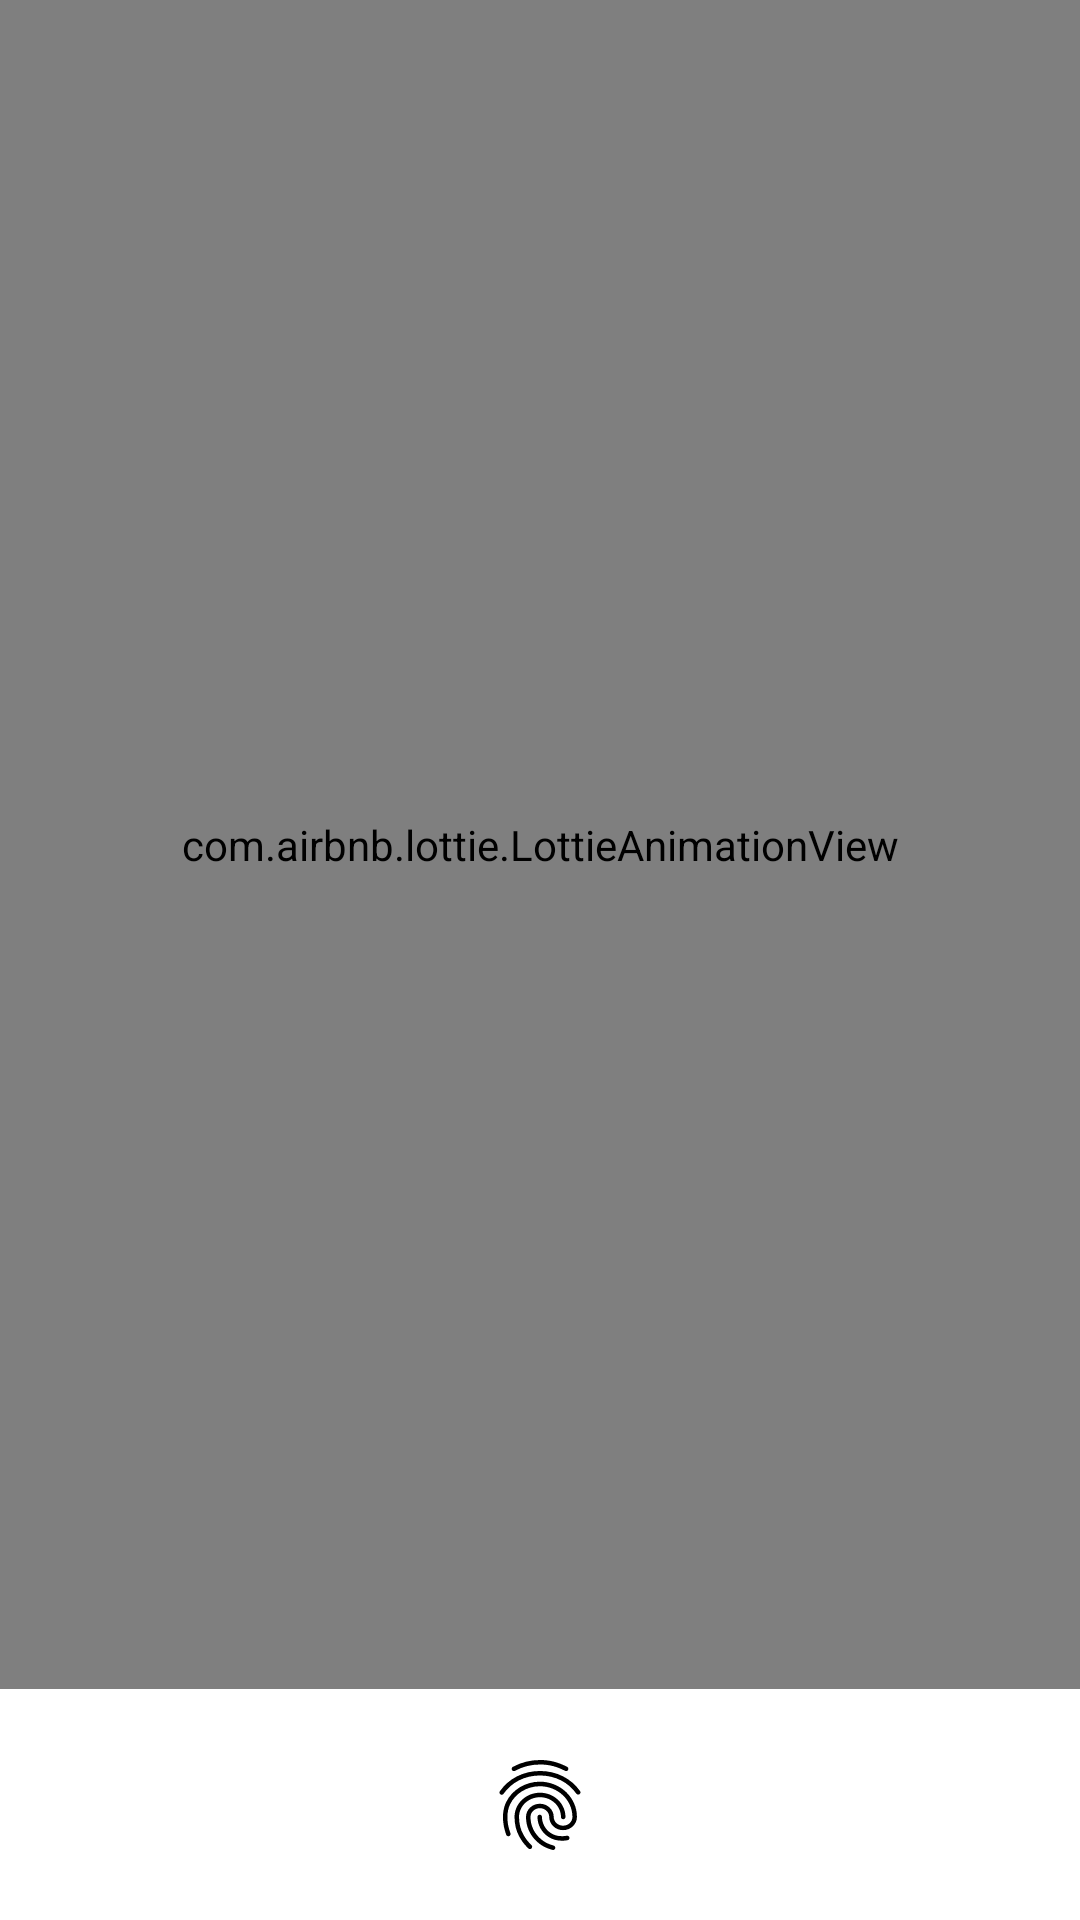

Named icons in this screenshot (1080px×1920px) and their centers, (x=x, y=y):
fingerprint: (x=540, y=1805)
